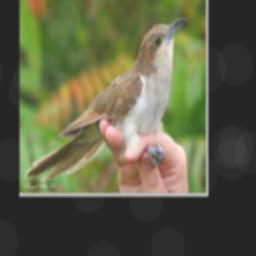Cuckoo: (23, 16, 187, 180)
